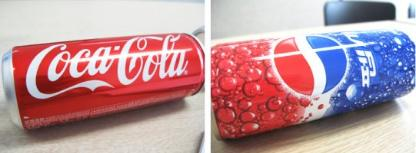Can: (212, 27, 416, 143), (1, 32, 206, 130)
